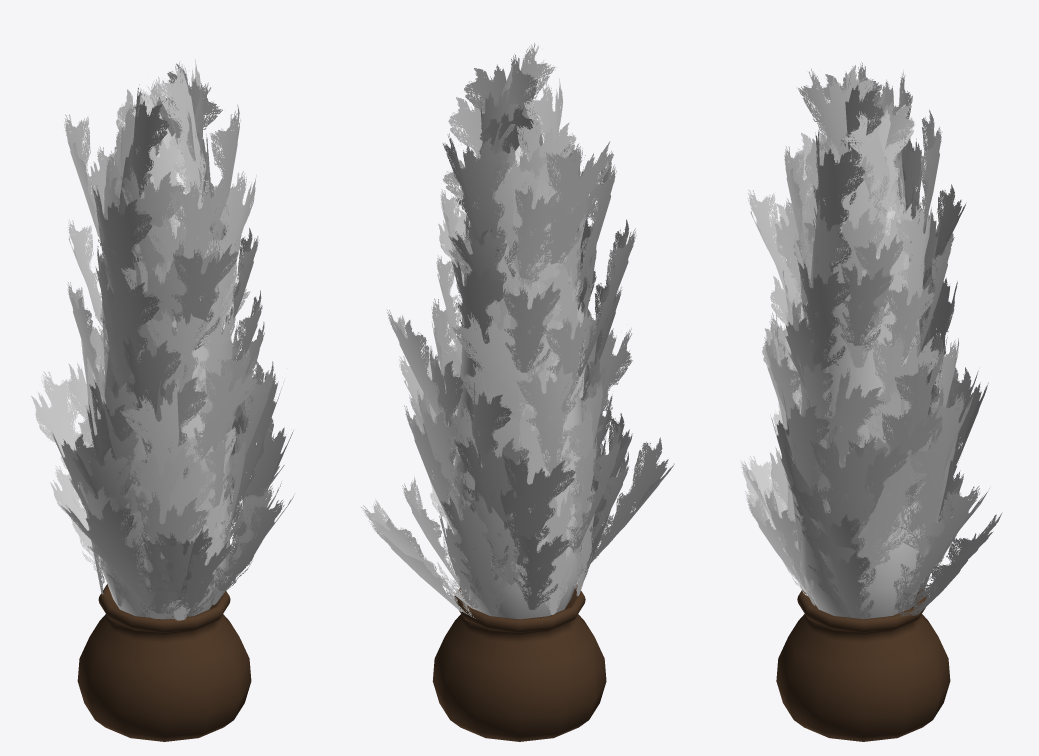
The model's file is tree_01.fbx.
3 views of the same model, side by side, from view 1: azimuth 30°, elevation 25°; view 2: azimuth 150°, elevation 25°; view 3: azimuth 270°, elevation 25° (orthographic).
Parts seen in each view (by area): view 1: Leaves, Pot, Tree; view 2: Leaves, Pot, Tree; view 3: Leaves, Pot, Tree.
Boxes of the visible parts, x1,y1,x2,y2 form: Leaves: (31, 59, 293, 620); Pot: (77, 584, 251, 741); Tree: (99, 152, 230, 618); Leaves: (361, 42, 674, 618); Pot: (432, 585, 606, 741); Tree: (454, 145, 582, 619); Leaves: (740, 62, 1002, 619); Pot: (776, 588, 950, 741); Tree: (797, 197, 927, 618).
Bounding box in the file's own units: 560 × 1322 × 520.
